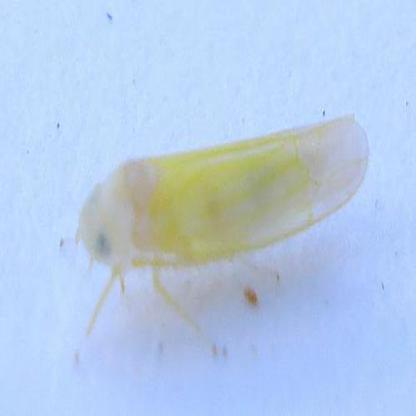green-leafhopper: (76, 116, 369, 350)
